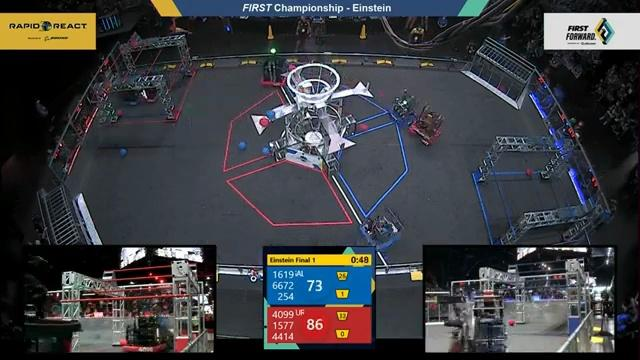robot: (350, 203, 413, 255), (251, 44, 294, 91), (381, 85, 423, 124), (122, 316, 167, 352), (407, 103, 444, 143)
